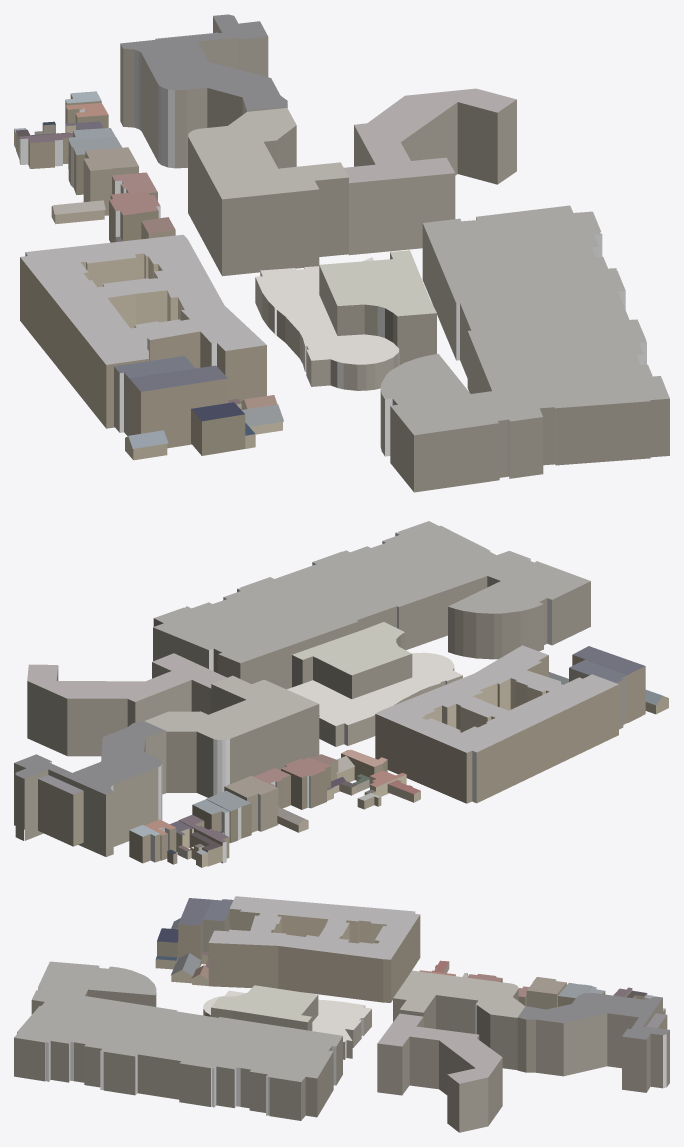
3 views of the same model, one above another, from view 1: azimuth 30°, elevation 25°; view 2: azimuth 150°, elevation 25°; view 3: azimuth 270°, elevation 25° (orthographic). The views are drawn at different scales.
Visible parts, largest first — view 1: tuile; view 2: tuile; view 3: tuile.
Part boxes in pixels (left/top/right/bottom): tuile: left=14, top=14, right=669, bottom=492; tuile: left=14, top=521, right=668, bottom=867; tuile: left=14, top=896, right=669, bottom=1132.
Size of the model in its own units: 230 by 29.88 by 323.
